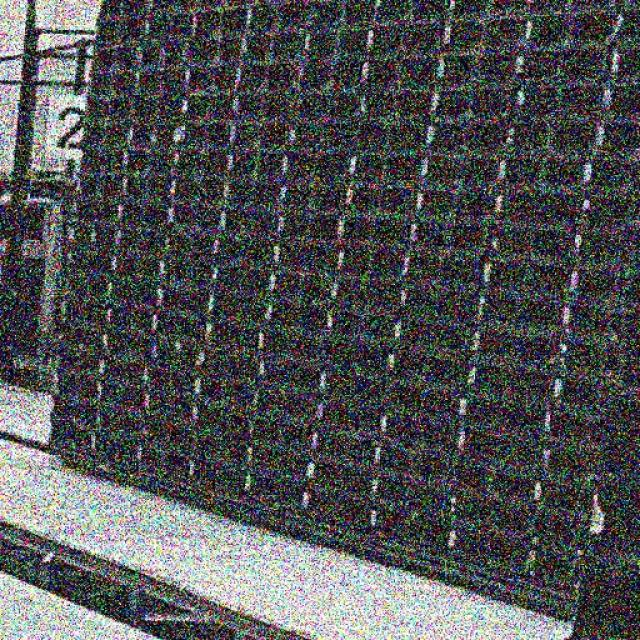igps: (46, 421, 91, 478), (57, 222, 112, 257), (47, 297, 105, 329), (62, 193, 116, 226), (50, 272, 106, 300), (48, 372, 95, 405), (72, 144, 122, 175), (86, 44, 134, 76), (72, 122, 126, 150), (48, 331, 102, 359), (52, 250, 110, 276), (46, 402, 95, 431), (82, 74, 132, 101), (78, 96, 128, 123), (89, 18, 142, 43), (69, 174, 119, 200), (92, 0, 142, 22), (52, 354, 98, 376)
